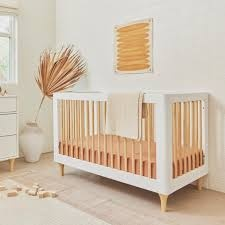crib: (54, 92, 207, 210)
